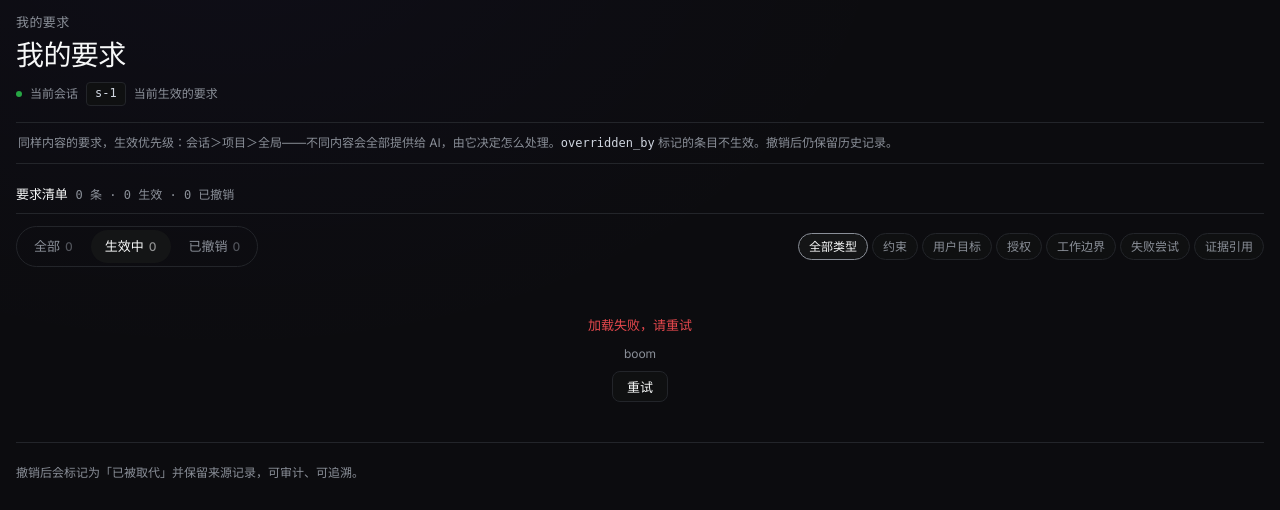
Scenario: ConstraintsTab（状态外壳） › 加载失败 → 错误态 + 重试可重拉
Click the button "重试": [640, 386] box [612,371,668,402]
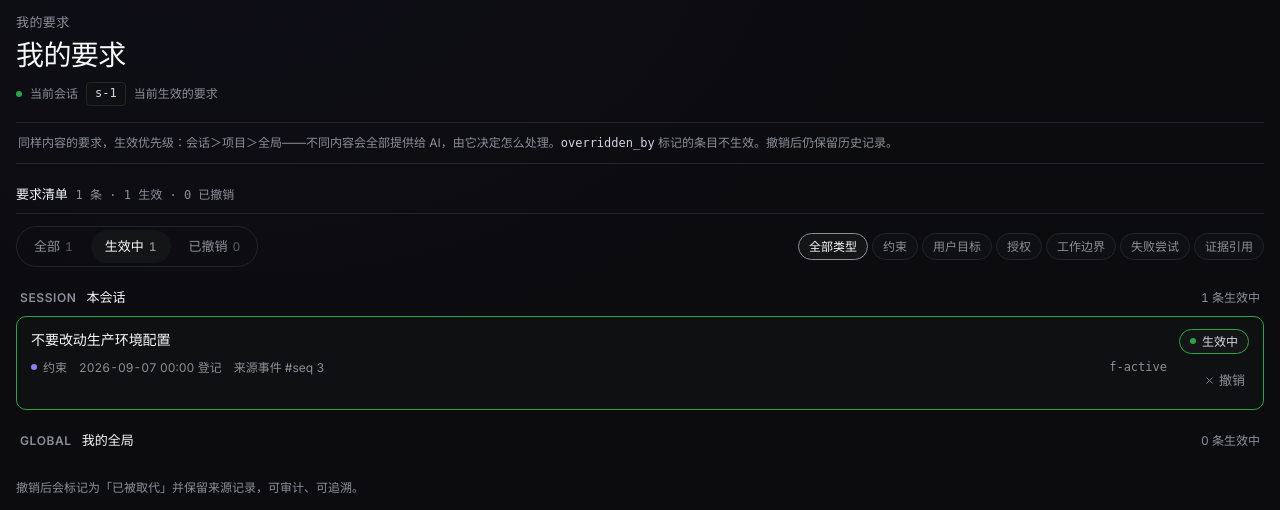
Expected: the text "不要改动生产环境配置" is shown, [31,330,170,348]
